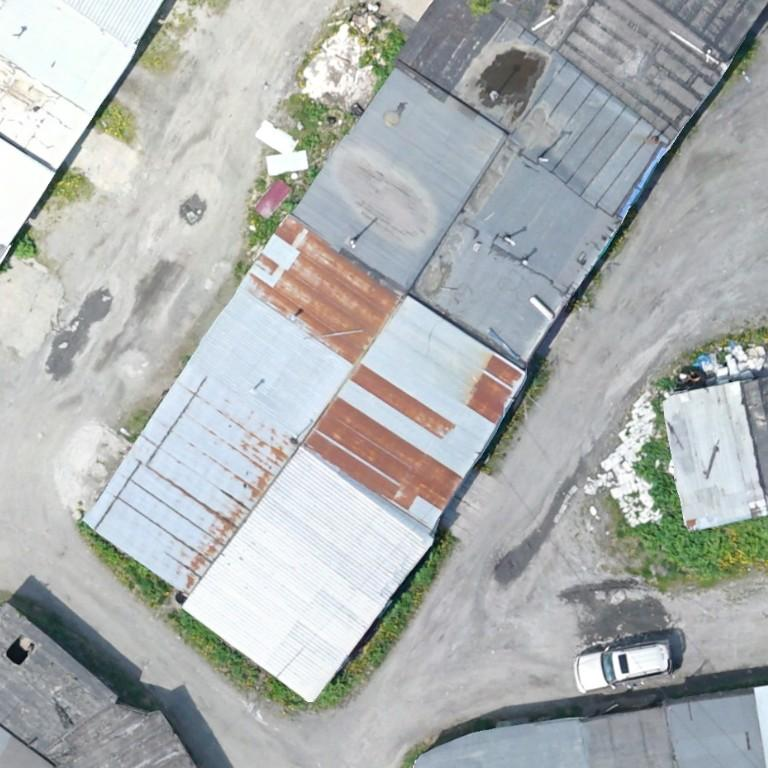hogweed: (635, 443, 767, 571)
